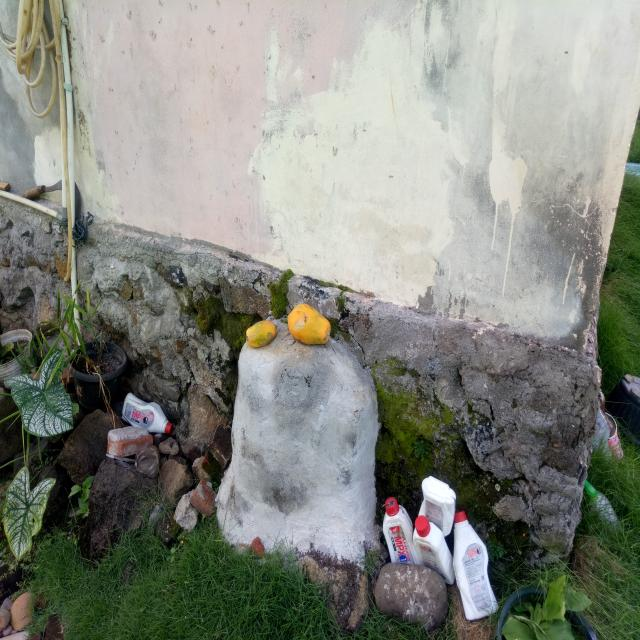Pepaya rippen: (281, 299, 337, 351), (242, 316, 281, 349)
